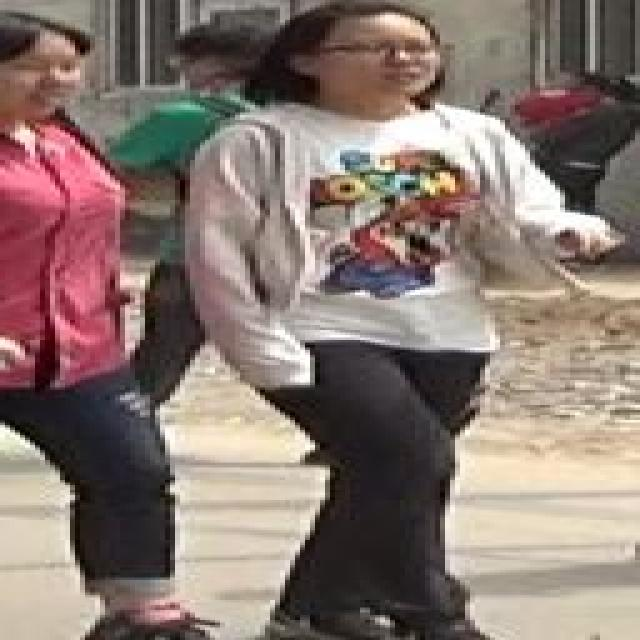adult: (185, 0, 555, 640), (0, 18, 206, 640)
